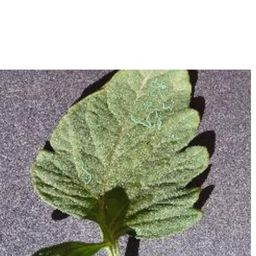liriomyza: (128, 76, 176, 131), (78, 157, 92, 185)
